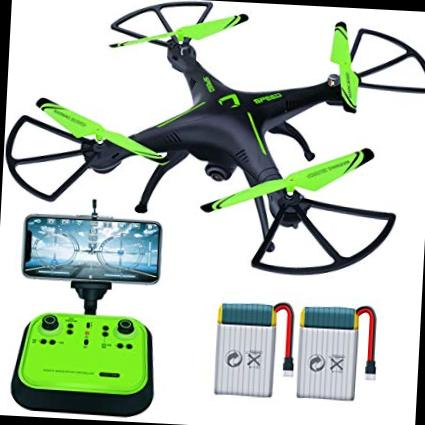drone: (9, 0, 425, 288)
